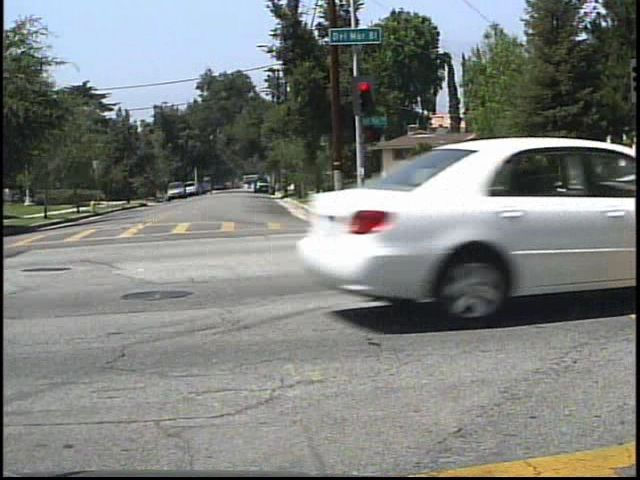car: (296, 111, 637, 352)
